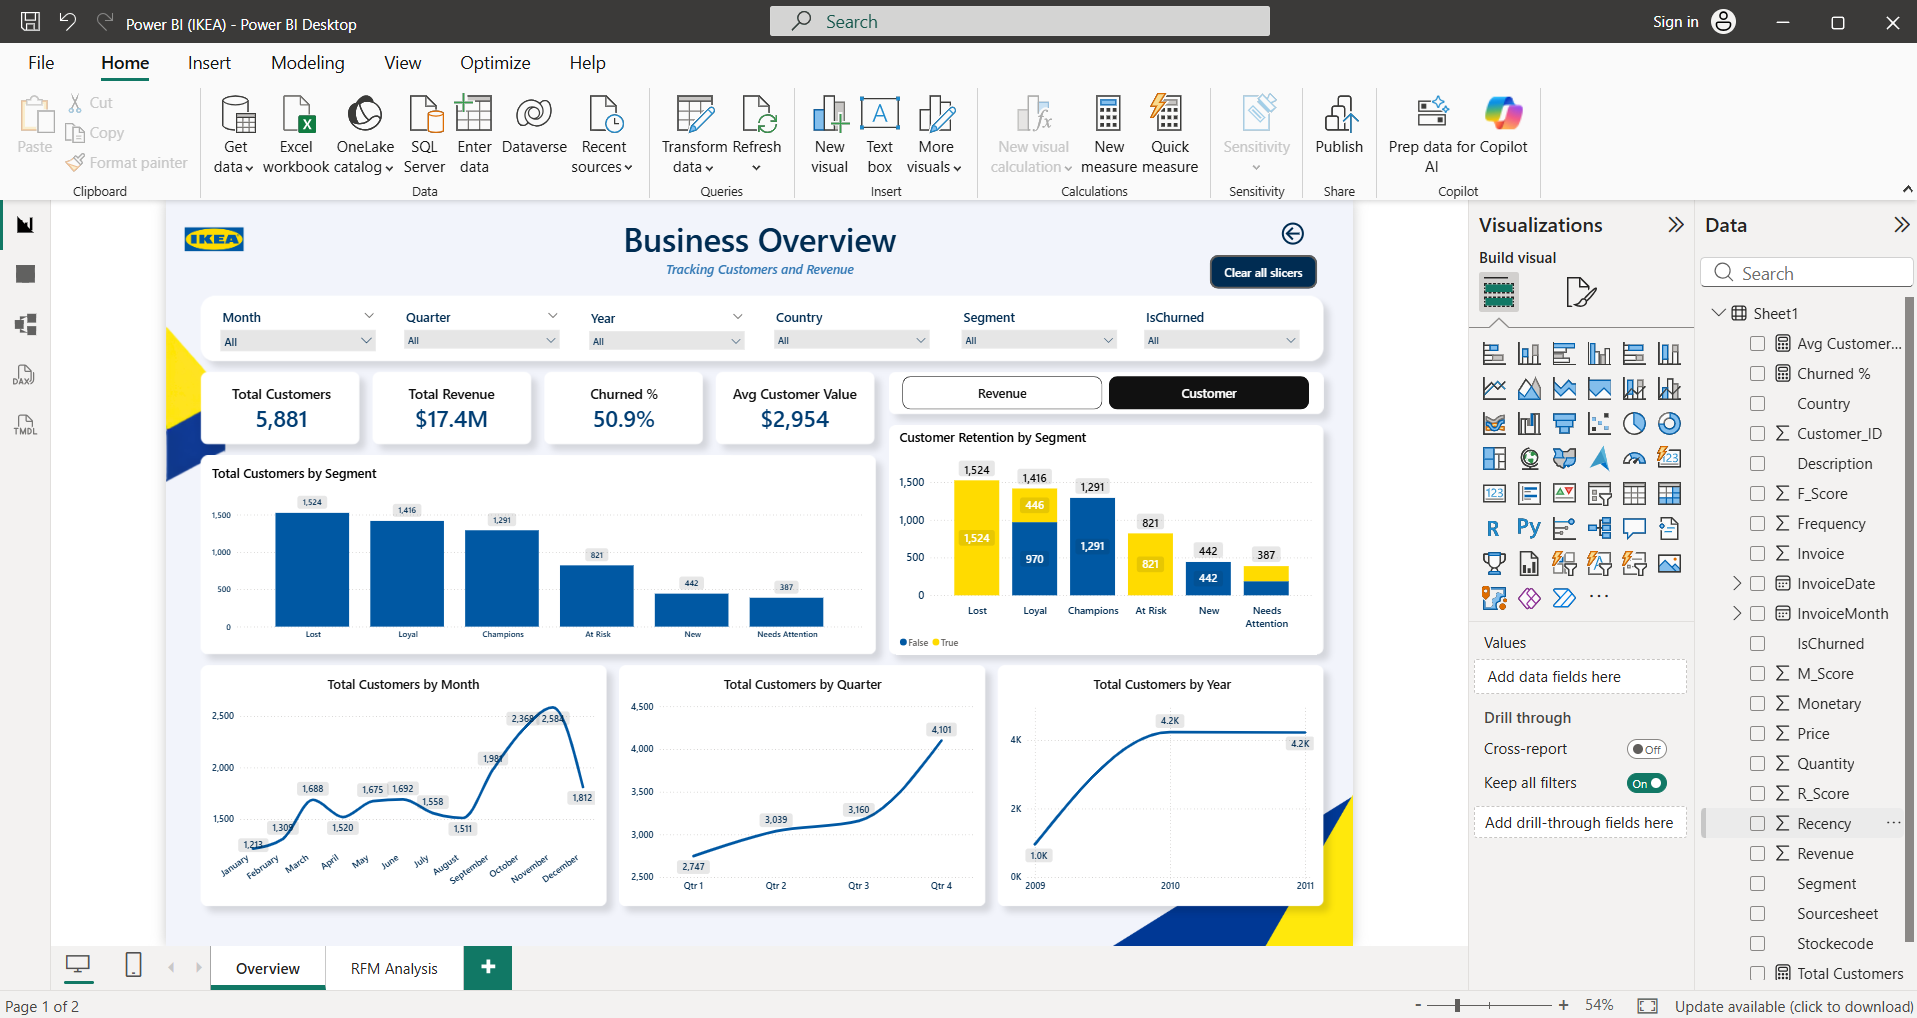

The dashboard page shown, as its layout file describes it:
{"tool":"powerbi","page":{"name":"Overview","canvas":[1750,1100],"ordinal":0},"visuals":[{"type":"card","title":"Total Customers","fields":{"Values":["Sheet1.Total Customers"]},"box":[69.4,262.4,200.6,88.1],"z":0},{"type":"columnChart","fields":{"Y":["Sheet1.Total Revenue"],"Category":["Sheet1.Segment"]},"box":[61.9,386.2,971,273.7],"z":0,"group":"g1"},{"type":"card","title":"Total Revenue","fields":{"Values":["Sheet1.Total Revenue"]},"box":[318.7,262.4,204.3,88.1],"z":1000},{"type":"pieChart","title":"Revenue Retention by Segment","fields":{"Category":["Sheet1.Segment"],"Series":["Sheet1.IsChurned"],"Y":["Sheet1.Total Revenue"]},"box":[1076,341.2,620.5,318.7],"z":1000,"group":"g1"},{"type":"card","title":"Churned %","fields":{"Values":["Sheet1.Churned %"]},"box":[573.6,262.4,204.3,88.1],"z":2000},{"type":"lineChart","title":"Total Revenue by Month","fields":{"Y":["Sheet1.Total Revenue"],"Category":["Sheet1.InvoiceMonth.Variation.Date Hierarchy.Month"]},"box":[61.9,697.4,575.5,333.7],"z":2000,"group":"g1"},{"type":"card","title":"Avg Customer Value","fields":{"Values":["Sheet1.Avg Customer Value"]},"box":[822.9,262.4,209.9,88.1],"z":3000},{"type":"lineChart","fields":{"Category":["Sheet1.InvoiceMonth.Variation.Date Hierarchy.Year"],"Y":["Sheet1.Total Revenue"]},"box":[1239.1,697.4,457.4,333.7],"z":3000,"group":"g1"},{"type":"slicer","fields":{"Values":["Sheet1.InvoiceMonth.Variation.Date Hierarchy.Month"]},"box":[69.4,155.6,249.3,69.4],"z":4000},{"type":"lineChart","fields":{"Category":["Sheet1.InvoiceMonth.Variation.Date Hierarchy.Quarter"],"Y":["Sheet1.Total Revenue"]},"box":[678.6,697.4,517.4,333.7],"z":4000,"group":"g1"},{"type":"slicer","fields":{"Values":["Sheet1.InvoiceDate.Variation.Date Hierarchy.Quarter"]},"box":[341.2,155.6,249.3,69.4],"z":5000},{"type":"slicer","fields":{"Values":["Sheet1.InvoiceDate.Variation.Date Hierarchy.Year"]},"box":[613,157.5,249.3,69.4],"z":6000},{"type":"slicer","fields":{"Values":["Sheet1.Segment"]},"box":[1162.2,155.6,249.3,69.4],"z":7000},{"type":"slicer","fields":{"Values":["Sheet1.Country"]},"box":[886.6,155.6,249.3,69.4],"z":8000},{"type":"slicer","fields":{"Values":["Sheet1.IsChurned"]},"box":[1432.1,155.6,249.3,69.4],"z":9000},{"type":"group","id":"g1","title":"Revenue","box":[61.9,341.2,1634.5,689.8],"z":11000},{"type":"bookmarkNavigator","box":[1085.6,259.9,600.9,49.8],"z":12000},{"type":"image","box":[7.4,20.3,127.2,75.6],"z":13000},{"type":"textbox","box":[588,20.3,575.1,119.8],"z":14000},{"type":"actionButton","box":[1625.7,18.4,71.9,62.7],"z":15000},{"type":"actionButton","box":[1539,81.1,158.5,49.8],"z":16000}]}

Visuals, with their boxes on the page's 1750x1100 design canvas (x1, y1, x2, y2). These are canvas units, not pixel positions in the 1917x1018 screenshot, which may show the page scaled, cropped or inside an application window:
"Total Customers" card: 69/262/270/350
columnChart - Sheet1.Total Revenue x Sheet1.Segment: 62/386/1033/660
"Total Revenue" card: 319/262/523/350
"Revenue Retention by Segment" pieChart: 1076/341/1696/660
"Churned %" card: 574/262/778/350
"Total Revenue by Month" lineChart: 62/697/637/1031
"Avg Customer Value" card: 823/262/1033/350
lineChart - Sheet1.InvoiceMonth.Variation.Date Hierarchy.Year x Sheet1.Total Revenue: 1239/697/1696/1031
slicer - Sheet1.InvoiceMonth.Variation.Date Hierarchy.Month: 69/156/319/225
lineChart - Sheet1.InvoiceMonth.Variation.Date Hierarchy.Quarter x Sheet1.Total Revenue: 679/697/1196/1031
slicer - Sheet1.InvoiceDate.Variation.Date Hierarchy.Quarter: 341/156/590/225
slicer - Sheet1.InvoiceDate.Variation.Date Hierarchy.Year: 613/158/862/227
slicer - Sheet1.Segment: 1162/156/1412/225
slicer - Sheet1.Country: 887/156/1136/225
slicer - Sheet1.IsChurned: 1432/156/1681/225
"Revenue" group: 62/341/1696/1031
bookmarkNavigator: 1086/260/1686/310
image: 7/20/135/96
textbox: 588/20/1163/140
actionButton: 1626/18/1698/81
actionButton: 1539/81/1698/131
